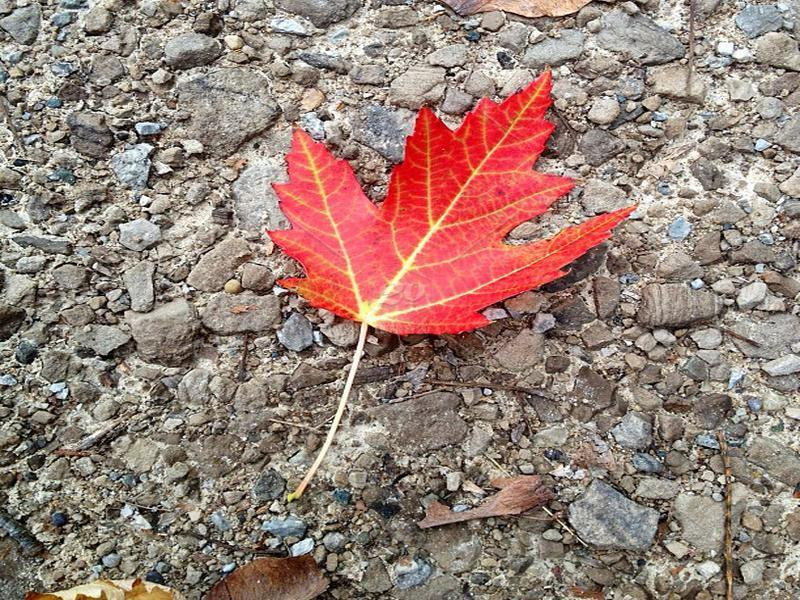leaf: (255, 62, 643, 514)
